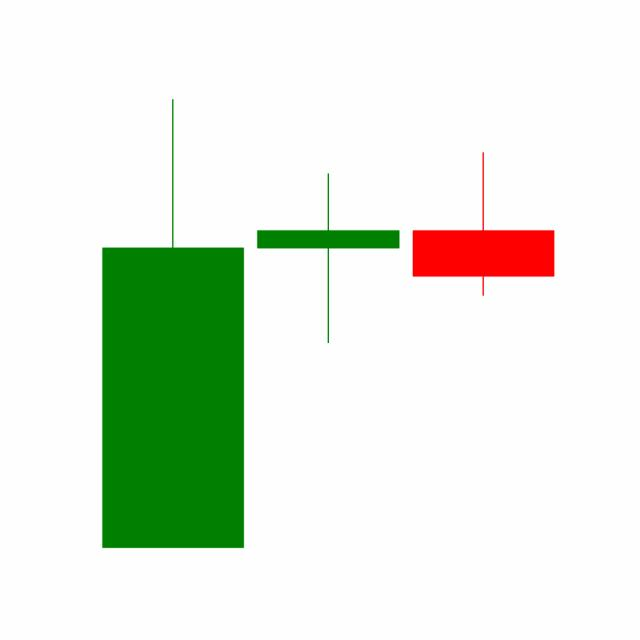Hammer: (249, 170, 406, 345)
